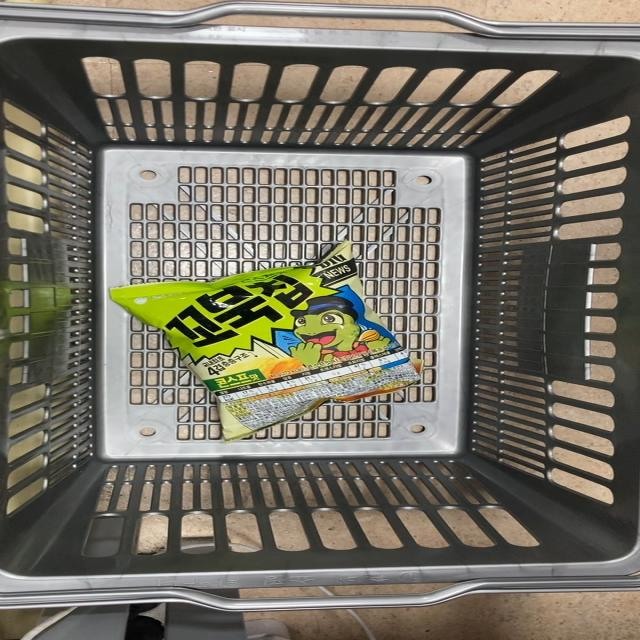ggobukchip: (101, 248, 432, 441)
